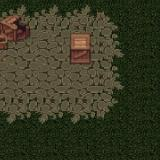Hide: (55, 21, 106, 71)
Obstacle: (0, 0, 38, 63)
